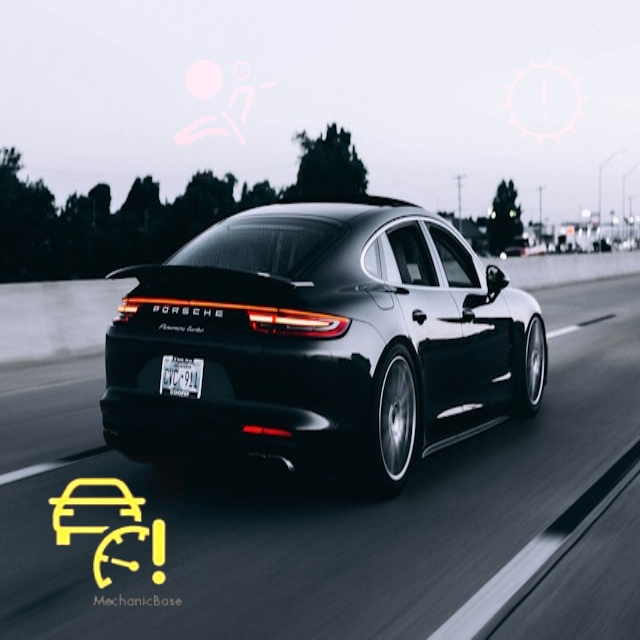symbol: (462, 19, 628, 185), (29, 456, 185, 612), (151, 28, 302, 179)
